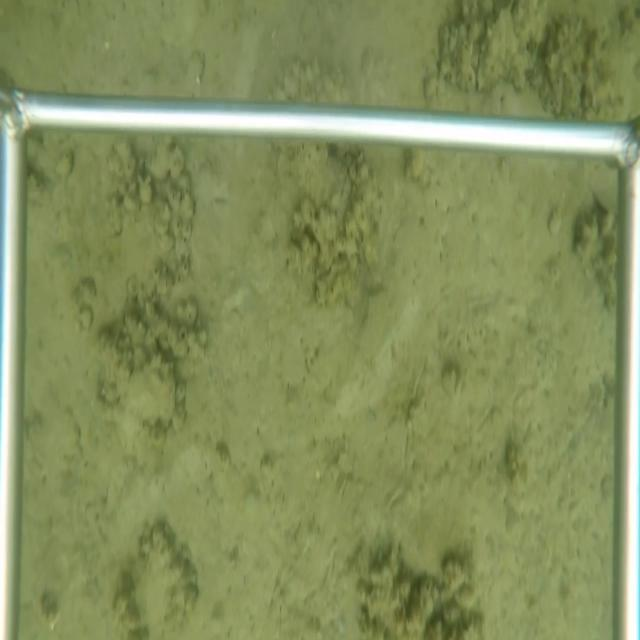Oyster-Indeterminate: (122, 357, 180, 431), (475, 6, 520, 94)
